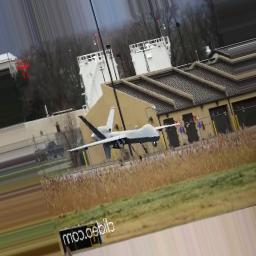reaper: (70, 111, 172, 162)
